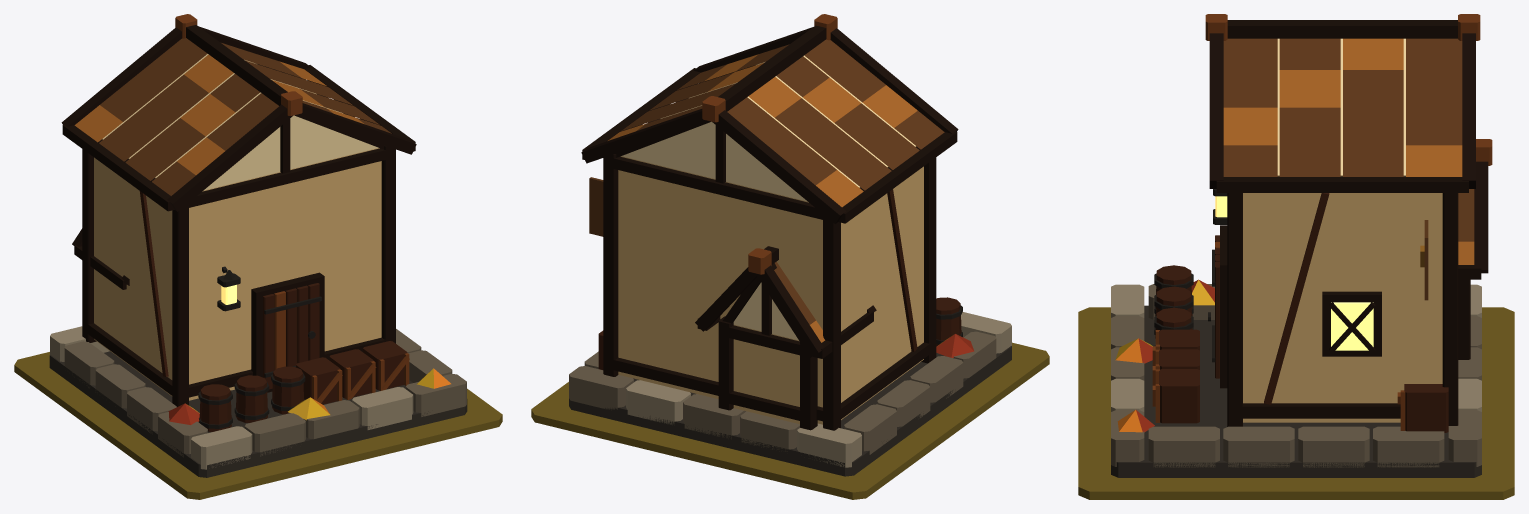
File: storehouse_t6.glb
3 renders of one model, left to right at view 1: azimuth 30°, elevation 25°; view 2: azimuth 150°, elevation 25°; view 3: azimuth 270°, elevation 25°, orthographic. The views are drawn at different scales.
Visible parts, largest first — view 1: MMR | storehouse | T06 Architecture.001, MMR | storehouse | Tier 06 Ground.001, MMR | storehouse | T06 Autumn Dressing.001; view 2: MMR | storehouse | T06 Architecture.001, MMR | storehouse | Tier 06 Ground.001, MMR | storehouse | T06 Banner Flag 1.001, MMR | storehouse | T06 Autumn Dressing.001; view 3: MMR | storehouse | T06 Architecture.001, MMR | storehouse | Tier 06 Ground.001, MMR | storehouse | T06 Autumn Dressing.001.
Boxes of the visible parts, x1=… form: MMR | storehouse | T06 Architecture.001: x1=49, y1=14, x2=467, y2=477; MMR | storehouse | Tier 06 Ground.001: x1=14, y1=352, x2=502, y2=499; MMR | storehouse | T06 Autumn Dressing.001: x1=168, y1=368, x2=450, y2=424; MMR | storehouse | T06 Architecture.001: x1=569, y1=14, x2=1011, y2=476; MMR | storehouse | Tier 06 Ground.001: x1=531, y1=342, x2=1049, y2=499; MMR | storehouse | T06 Banner Flag 1.001: x1=589, y1=177, x2=603, y2=236; MMR | storehouse | T06 Autumn Dressing.001: x1=936, y1=334, x2=974, y2=357; MMR | storehouse | T06 Architecture.001: x1=1111, y1=14, x2=1492, y2=477; MMR | storehouse | Tier 06 Ground.001: x1=1078, y1=307, x2=1514, y2=499; MMR | storehouse | T06 Autumn Dressing.001: x1=1115, y1=279, x2=1214, y2=432.
Size of the model in its own units: 2.35 by 2.32 by 2.35.
Materials: 2 (1 with a texture image).
